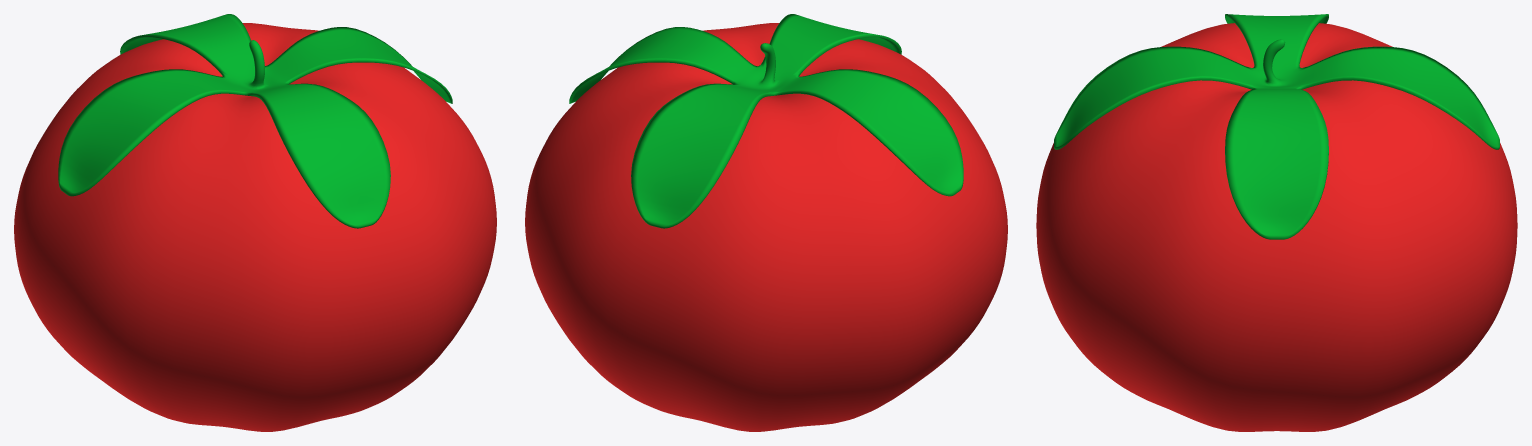
The model's file is tomato.fbx.
The picture shows the model from 3 angles, left to right: view 1: azimuth 30°, elevation 25°; view 2: azimuth 150°, elevation 25°; view 3: azimuth 270°, elevation 25°; orthographic projection.
Parts seen in each view (by area): view 1: tomato, tomato_top; view 2: tomato, tomato_top; view 3: tomato, tomato_top.
Boxes of the visible parts, <box> form: tomato: <box>14,23,496,431</box>; tomato_top: <box>58,14,452,228</box>; tomato: <box>525,23,1007,431</box>; tomato_top: <box>569,14,963,228</box>; tomato: <box>1036,23,1517,431</box>; tomato_top: <box>1054,14,1499,239</box>.
Bounding box in the file's own units: 187 × 151 × 187.
